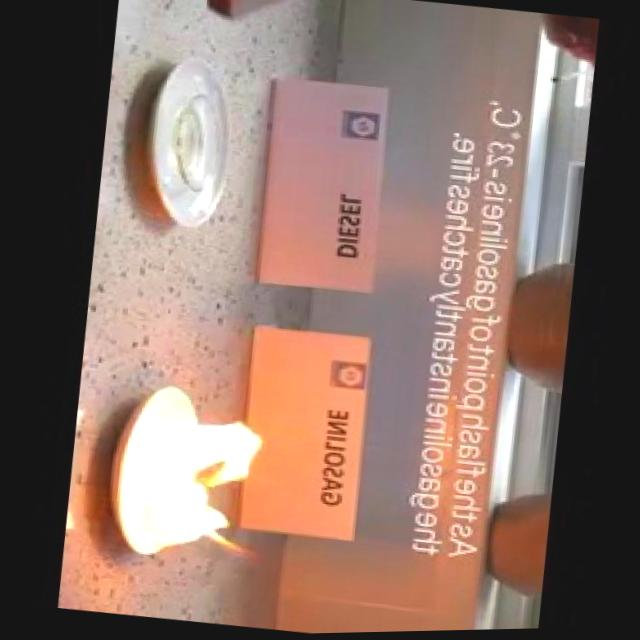Fire: (107, 398, 280, 572)
